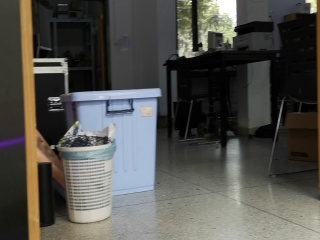room: (5, 4, 320, 233)
